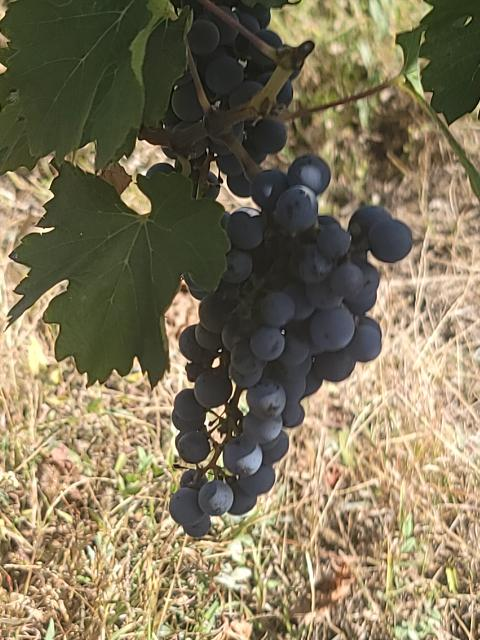grapes: (170, 155, 412, 538), (161, 0, 276, 130)
